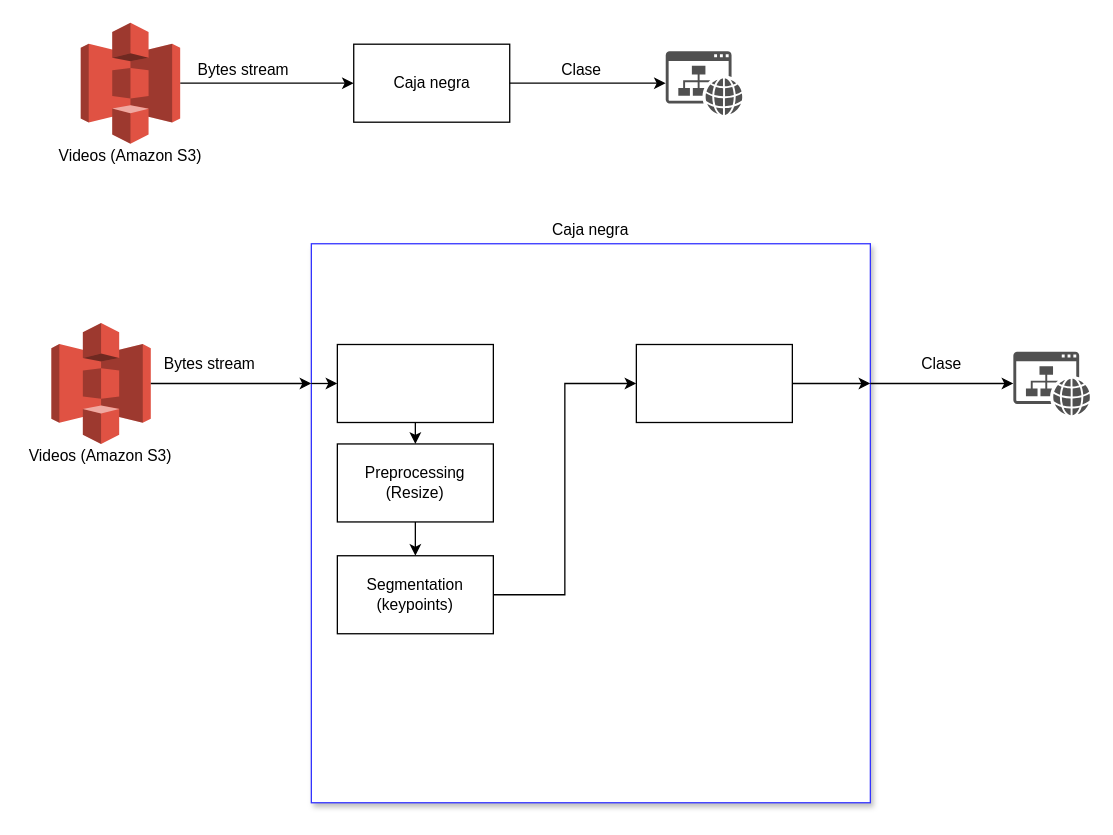
Image size: 1113x835. Some labels were removed from this diagram. The shapes that lost their labels are listed below. From the top down, each one's centre as x and y in pixels, then its label:
At pixel 414 382: "Bytes/MP4 in memory".
At pixel 713 382: "Predict".
